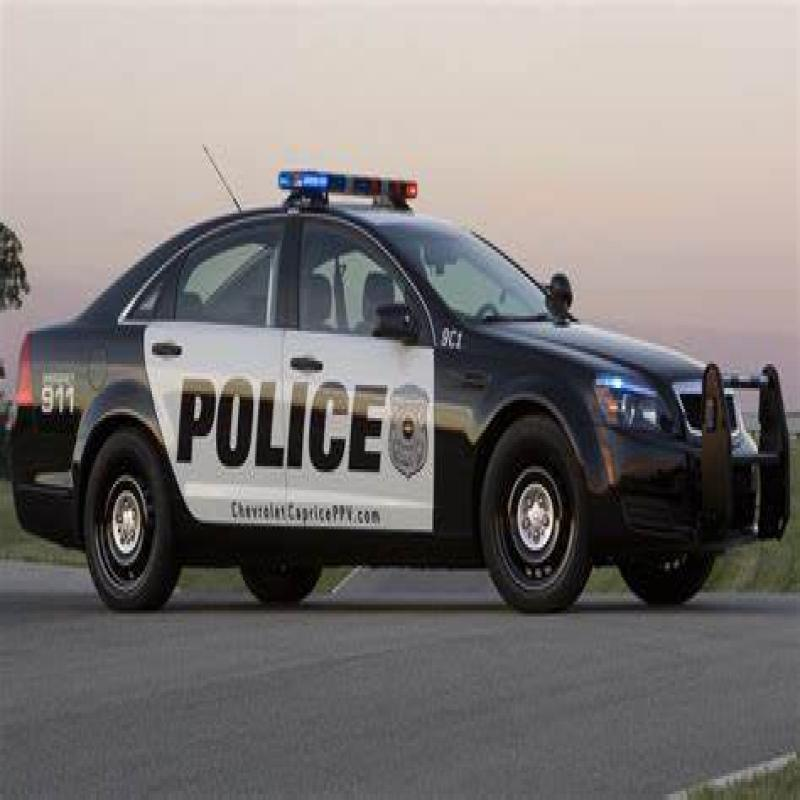AmbulanceSiren: (274, 144, 422, 219)
